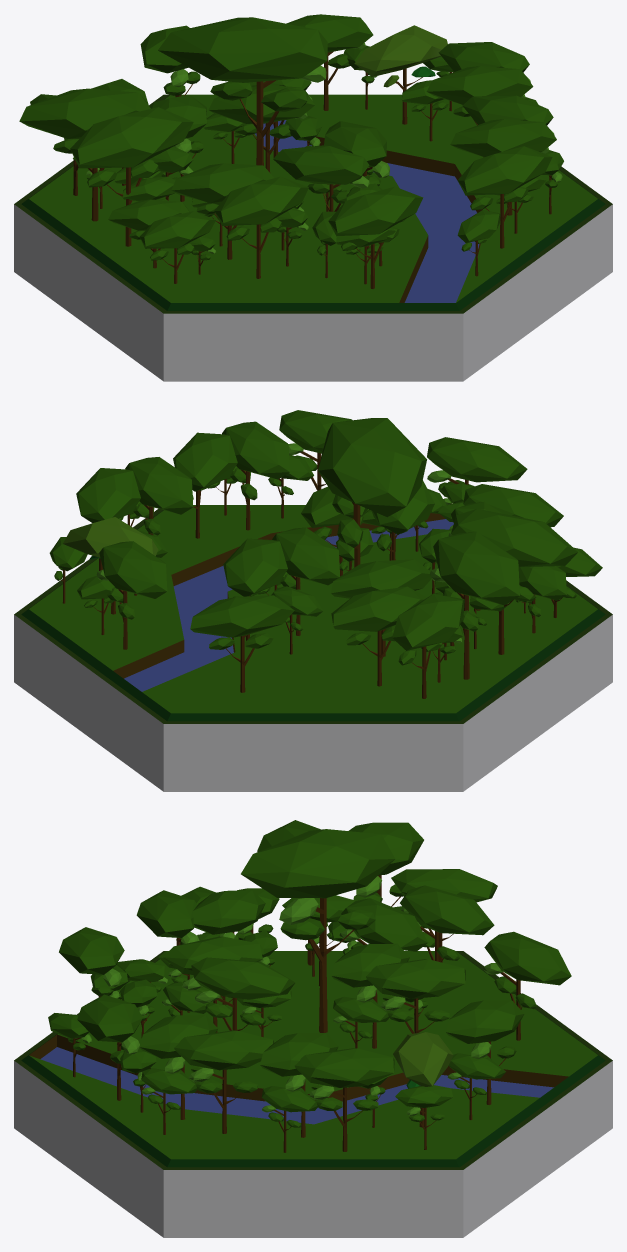
File: Provinces_ParqueNacionalYasuni (1).fbx
3 views of the same model, one above another, from view 1: azimuth 30°, elevation 25°; view 2: azimuth 150°, elevation 25°; view 3: azimuth 270°, elevation 25° (orthographic).
Parts seen in each view (by area): view 1: 22.ParqueNacionalYasuni; view 2: 22.ParqueNacionalYasuni; view 3: 22.ParqueNacionalYasuni.
Part boxes in pixels (x1,y1,x2,y2): 22.ParqueNacionalYasuni: (14,14,612,381); 22.ParqueNacionalYasuni: (14,410,612,791); 22.ParqueNacionalYasuni: (14,820,612,1237).
Size of the model in its own units: 183 by 96.18 by 200.
